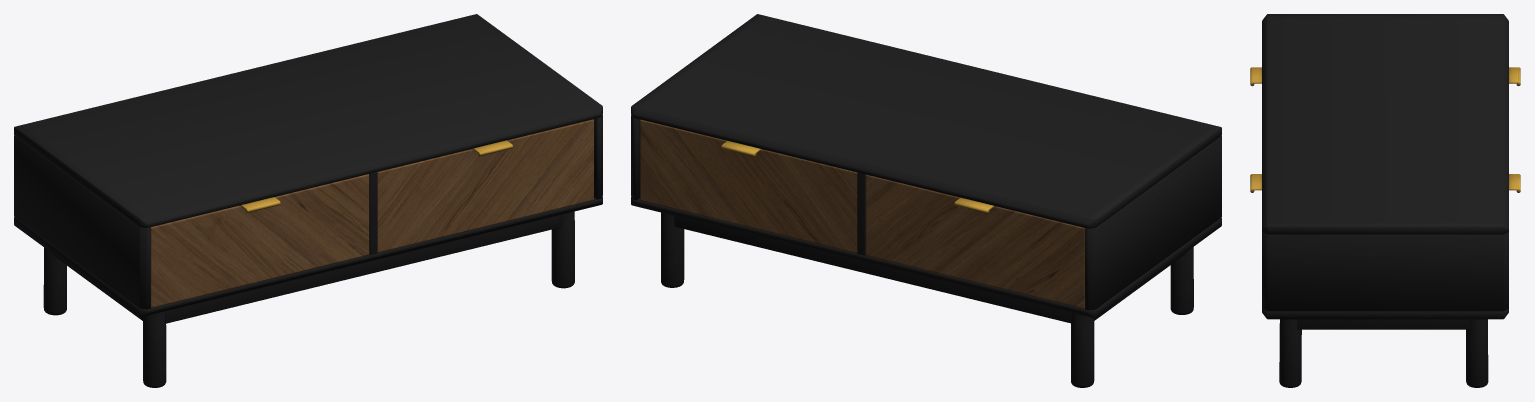
File: belgrave_storage_coffee_table_dark_stained_oak.glb
The picture shows the model from 3 angles, left to right: view 1: azimuth 30°, elevation 25°; view 2: azimuth 150°, elevation 25°; view 3: azimuth 270°, elevation 25°; orthographic projection. The views are drawn at different scales.
Visible parts, largest first — view 1: GRAPHITE001, DARK_STAINED_OAK001, BRASS001; view 2: GRAPHITE001, DARK_STAINED_OAK001, BRASS001; view 3: GRAPHITE001, BRASS001.
Part boxes in pixels (x1=…): GRAPHITE001: x1=14, y1=14, x2=602, y2=387; DARK_STAINED_OAK001: x1=150, y1=119, x2=593, y2=308; BRASS001: x1=240, y1=140, x2=512, y2=212; GRAPHITE001: x1=631, y1=14, x2=1221, y2=387; DARK_STAINED_OAK001: x1=640, y1=119, x2=1084, y2=308; BRASS001: x1=721, y1=141, x2=994, y2=213; GRAPHITE001: x1=1262, y1=14, x2=1508, y2=387; BRASS001: x1=1250, y1=67, x2=1520, y2=192.
Size of what is drawn, in the model's own units: 98.96 by 36.97 by 53.16.
Materials: 3 (3 with a texture image).
